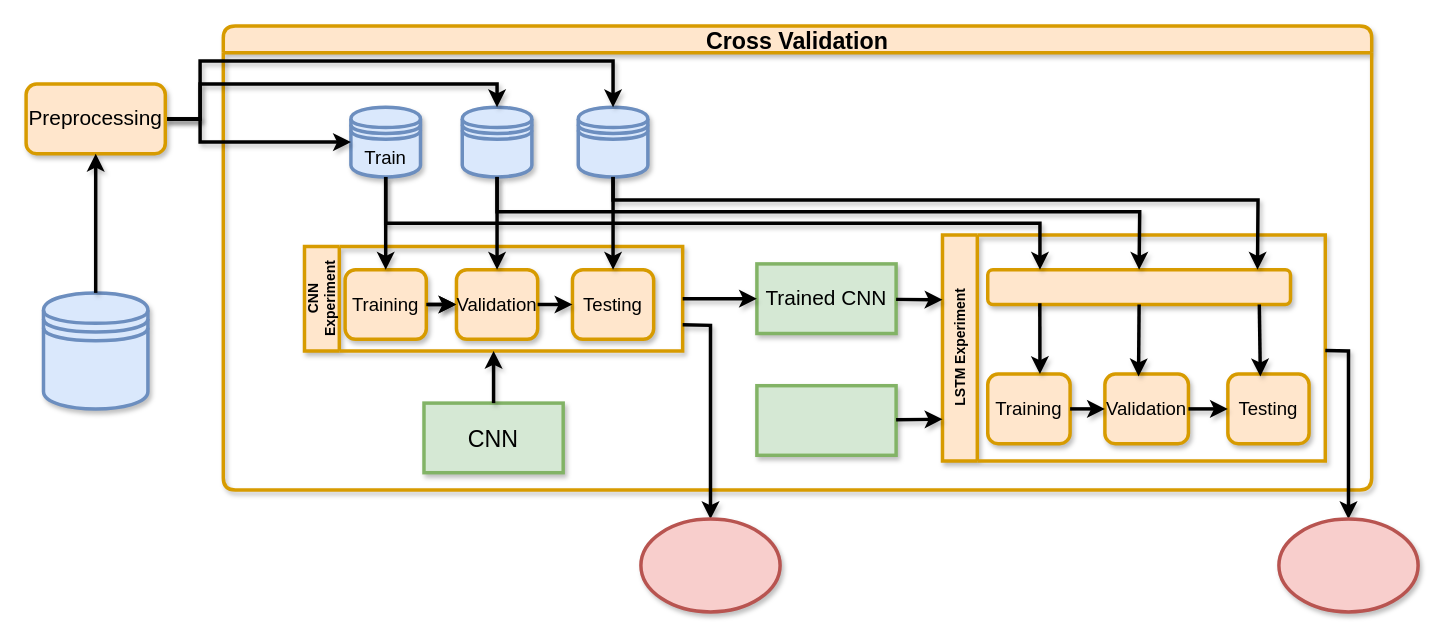
This 1447x641 diagram has some shape labels left out. The shapes that lost their labels are listed below. From the top down, each one's centre as x and y in pixels, then its label:
At point (497, 143): "Val".
At point (613, 143): "Test".
At point (1140, 288): "Embedding".
At point (96, 352): "Dataset".
At point (827, 422): "LSTM".
At point (711, 566): "CNN Results".
At point (1349, 566): "CNN + LSTM Results".
